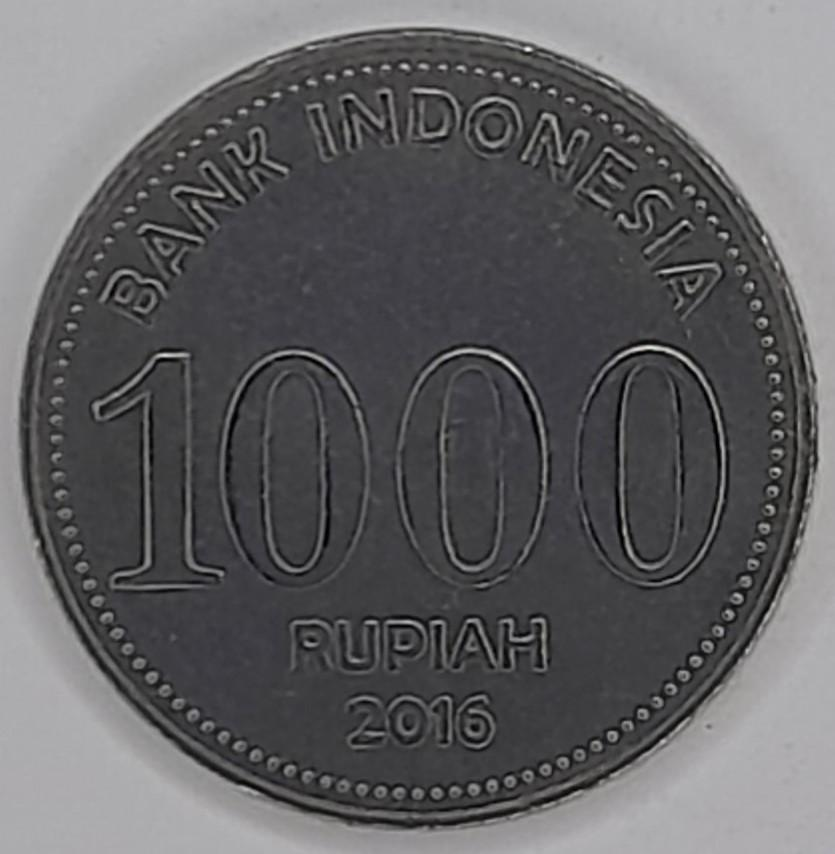coin_1000_e2016: (14, 17, 824, 854)
